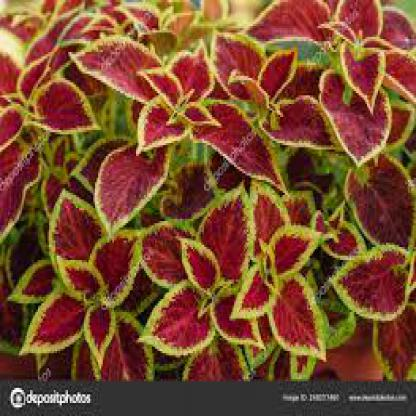Bunga Coleus: (12, 18, 400, 350)
